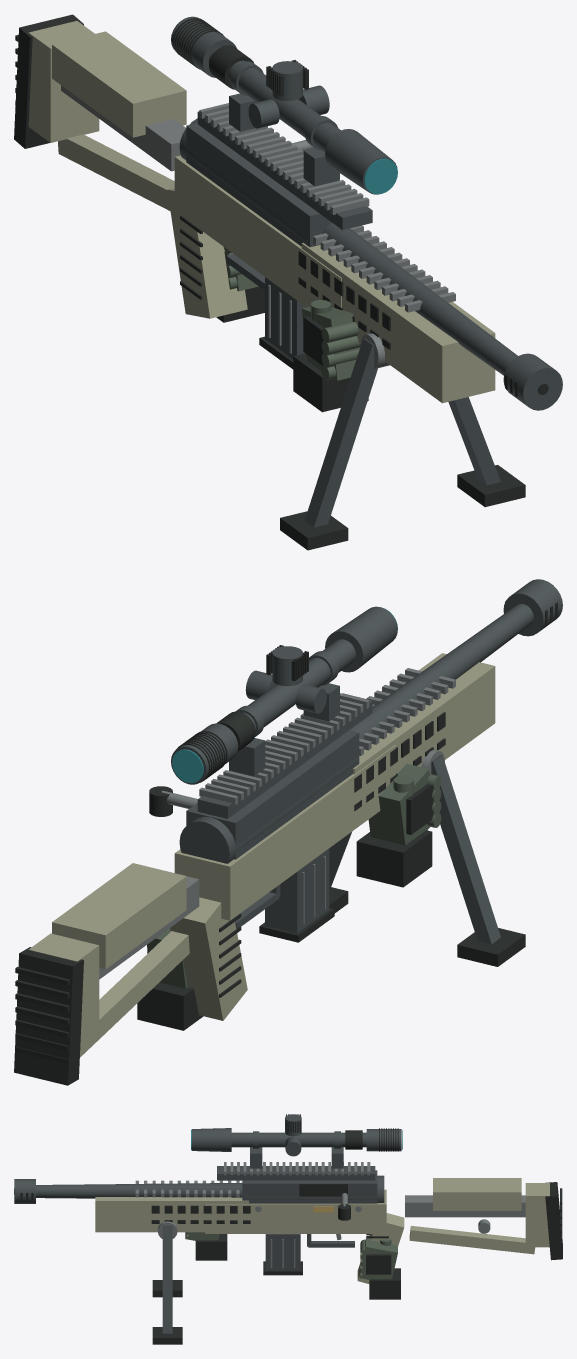
The model's file is sentinel.glb.
3 renders of one model, top to bottom at view 1: azimuth 30°, elevation 25°; view 2: azimuth 150°, elevation 25°; view 3: azimuth 270°, elevation 25°, orthographic. The views are drawn at different scales.
Parts seen in each view (by area): view 1: static_batch_0_3, static_batch_0_0, static_batch_0_1, static_batch_138_0, static_batch_0_2, static_batch_195_6, static_batch_195_2, magazine_body, static_batch_138_2, lens_front, turret_elevation, zoom_ring (+2 smaller); view 2: static_batch_0_3, static_batch_0_0, static_batch_0_2, static_batch_138_0, static_batch_0_1, static_batch_195_2, static_batch_195_6, magazine_body, static_batch_182_2, static_batch_138_2, turret_elevation, lens_rear (+5 smaller); view 3: static_batch_0_3, static_batch_0_0, static_batch_138_0, static_batch_0_2, static_batch_0_1, static_batch_182_2, magazine_body, static_batch_182_6, static_batch_195_2, static_batch_138_2, zoom_ring, turret_elevation.
Part boxes in pixels (x1=…): static_batch_0_3: x1=28, y1=21, x2=495, y2=403; static_batch_0_0: x1=179, y1=111, x2=562, y2=527; static_batch_0_1: x1=61, y1=85, x2=455, y2=368; static_batch_138_0: x1=171, y1=16, x2=397, y2=194; static_batch_0_2: x1=14, y1=14, x2=548, y2=550; static_batch_195_6: x1=302, y1=300, x2=360, y2=380; static_batch_195_2: x1=293, y1=316, x2=368, y2=412; magazine_body: x1=265, y1=277, x2=306, y2=358; static_batch_138_2: x1=173, y1=18, x2=308, y2=96; lens_front: x1=364, y1=158, x2=397, y2=194; turret_elevation: x1=272, y1=61, x2=302, y2=100; zoom_ring: x1=209, y1=45, x2=253, y2=89; static_batch_0_3: x1=28, y1=653, x2=495, y2=1057; static_batch_0_0: x1=179, y1=579, x2=562, y2=944; static_batch_0_2: x1=14, y1=601, x2=557, y2=1085; static_batch_138_0: x1=171, y1=606, x2=397, y2=784; static_batch_0_1: x1=99, y1=668, x2=455, y2=979; static_batch_195_2: x1=356, y1=784, x2=433, y2=887; static_batch_195_6: x1=368, y1=764, x2=441, y2=845; magazine_body: x1=265, y1=848, x2=329, y2=933; static_batch_182_2: x1=137, y1=950, x2=203, y2=1030; static_batch_138_2: x1=176, y1=645, x2=308, y2=782; turret_elevation: x1=272, y1=646, x2=302, y2=686; lens_rear: x1=172, y1=749, x2=203, y2=783; static_batch_0_3: x1=95, y1=1178, x2=549, y2=1283; static_batch_0_0: x1=14, y1=1166, x2=384, y2=1333; static_batch_138_0: x1=192, y1=1128, x2=401, y2=1168; static_batch_0_2: x1=14, y1=1182, x2=562, y2=1344; static_batch_0_1: x1=135, y1=1162, x2=525, y2=1240; static_batch_182_2: x1=366, y1=1254, x2=400, y2=1299; magazine_body: x1=265, y1=1234, x2=300, y2=1270; static_batch_182_6: x1=359, y1=1238, x2=397, y2=1279; static_batch_195_2: x1=195, y1=1234, x2=227, y2=1260; static_batch_138_2: x1=286, y1=1114, x2=398, y2=1151; zoom_ring: x1=345, y1=1130, x2=362, y2=1149; turret_elevation: x1=285, y1=1114, x2=301, y2=1136.
Size of the model in its own units: 0.295 by 0.4685 by 1.18.
